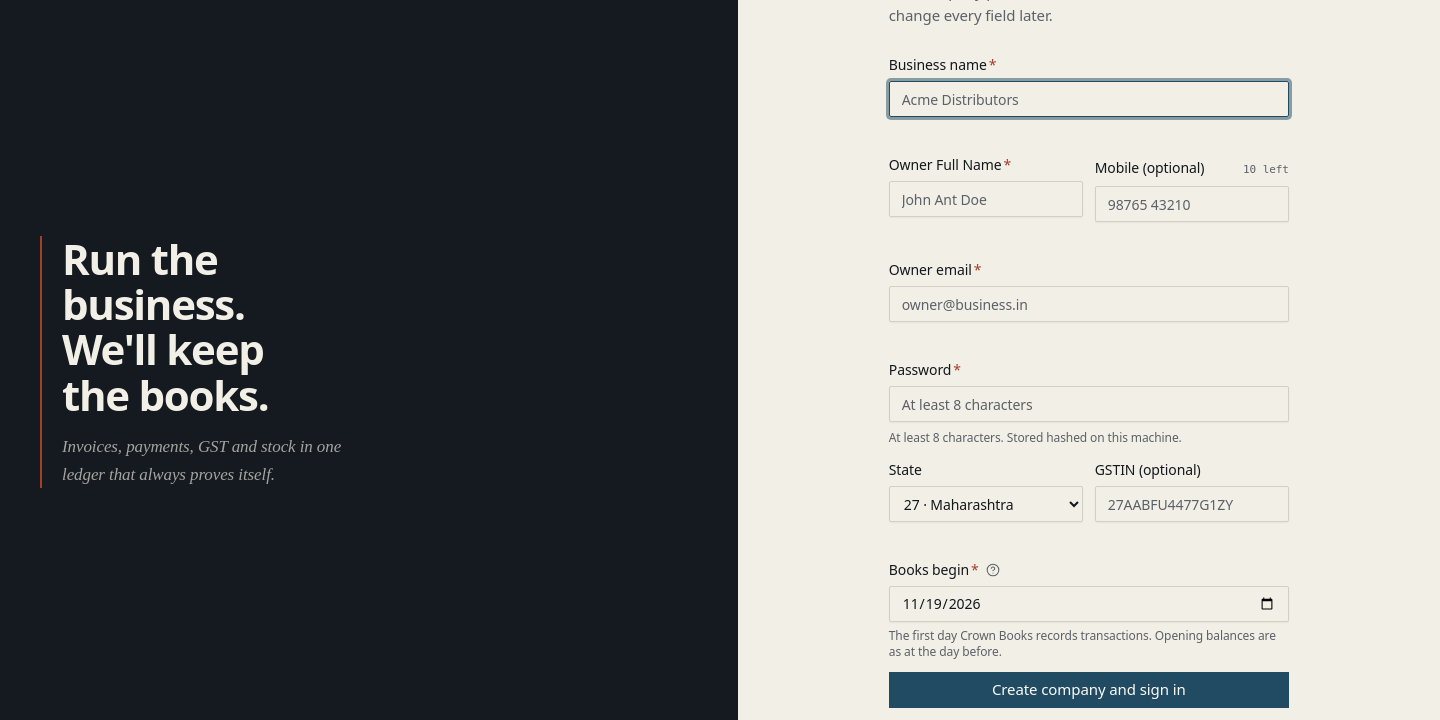
Test: AuthGate setup form › shows an error under every invalid field and focuses the first
This screenshot has width=1440, height=720.
(page scrolled)
Click the button "Create company and sign in": [1089, 690] box [889,672,1289,708]
(page scrolled)
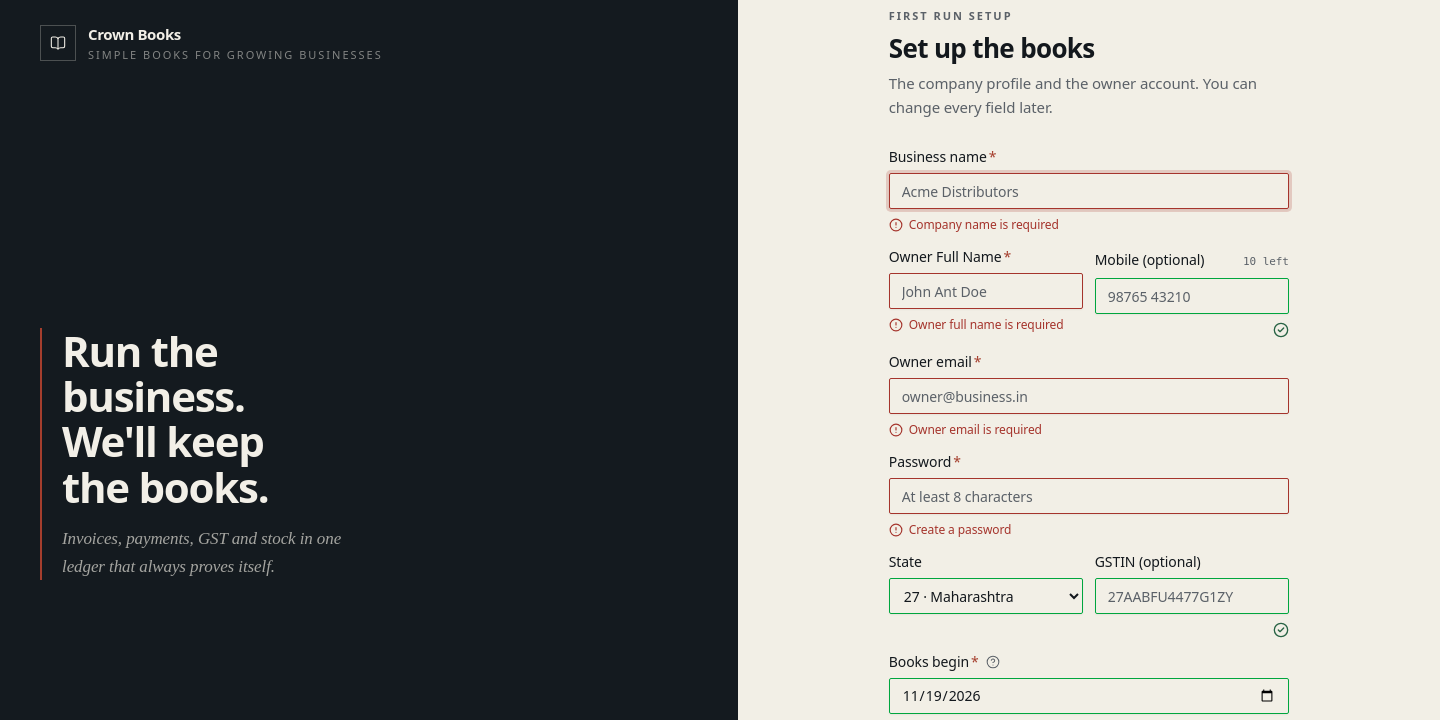
Check: the text "Company name is required" is shown, box [909,217,1059,233]
Check: the text "Owner full name is required" is shown, box [909,317,1064,333]
Check: the text "Owner email is required" is shown, box [909,422,1042,438]
